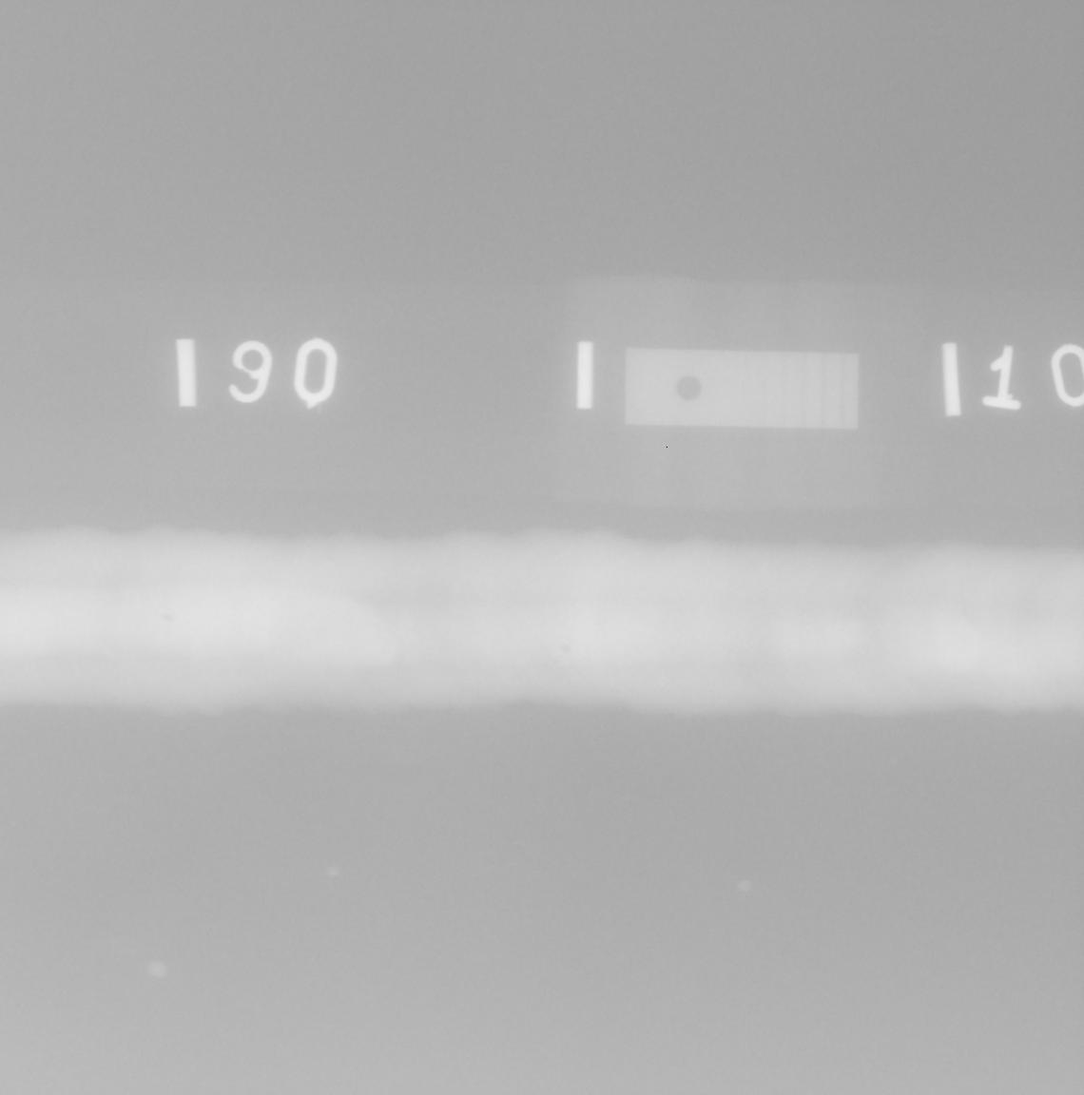Pore/Porosity: (163, 614, 172, 621), (561, 647, 569, 653)
Reference Standard 1: (624, 347, 858, 428)
